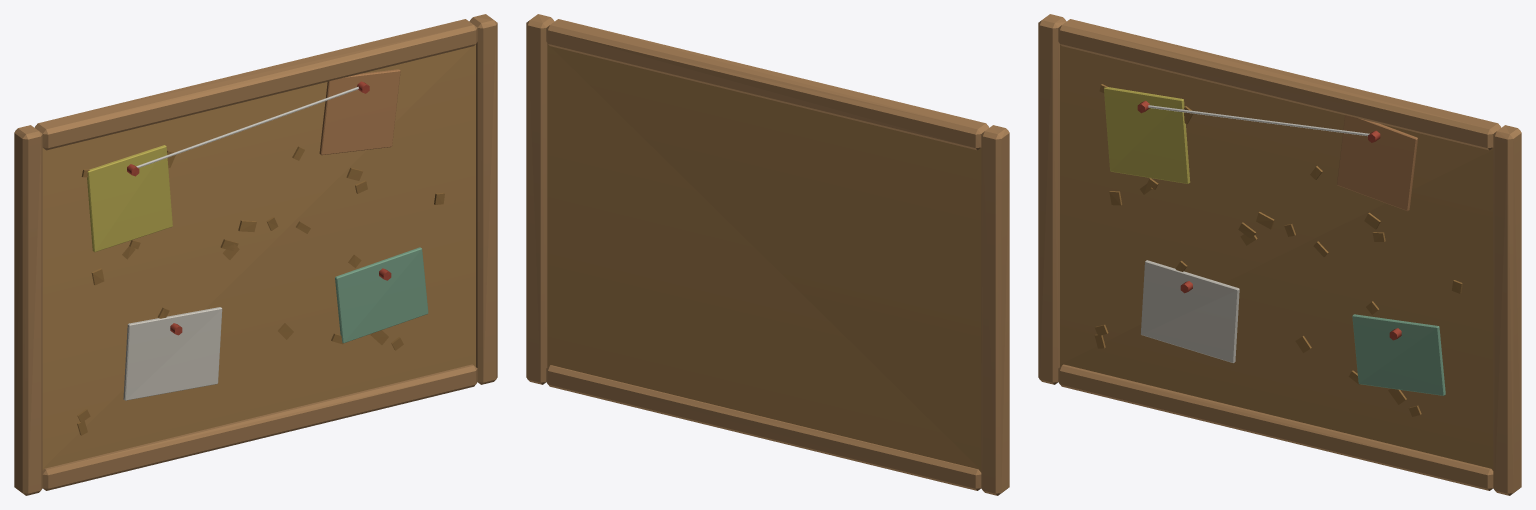
The model's file is corkboard.glb.
The picture shows the model from 3 angles, left to right: view 1: azimuth 30°, elevation 25°; view 2: azimuth 150°, elevation 25°; view 3: azimuth 330°, elevation 25°; orthographic projection.
Parts seen in each view (by area): view 1: corkboard; view 2: corkboard; view 3: corkboard.
Part boxes in pixels (x1,y1,x2,y2): corkboard: (14, 14, 497, 495); corkboard: (526, 14, 1009, 495); corkboard: (1038, 14, 1521, 495).
Bounding box in the file's own units: 0.66 × 0.48 × 0.037.
